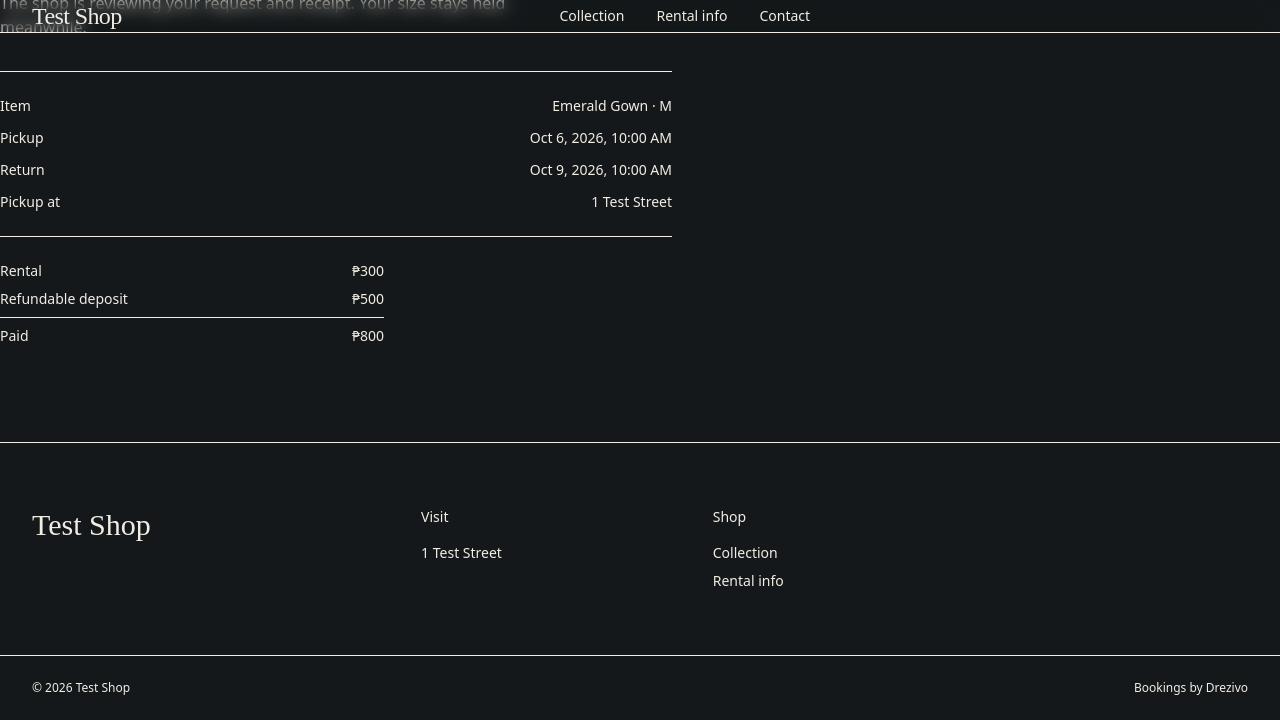
Test: reservation proof page › guards footer navigation before the animated storefront transition can navigate
(page scrolled)
Click the 2nd link "Collection" at (745, 552), box [713,543,778,562]
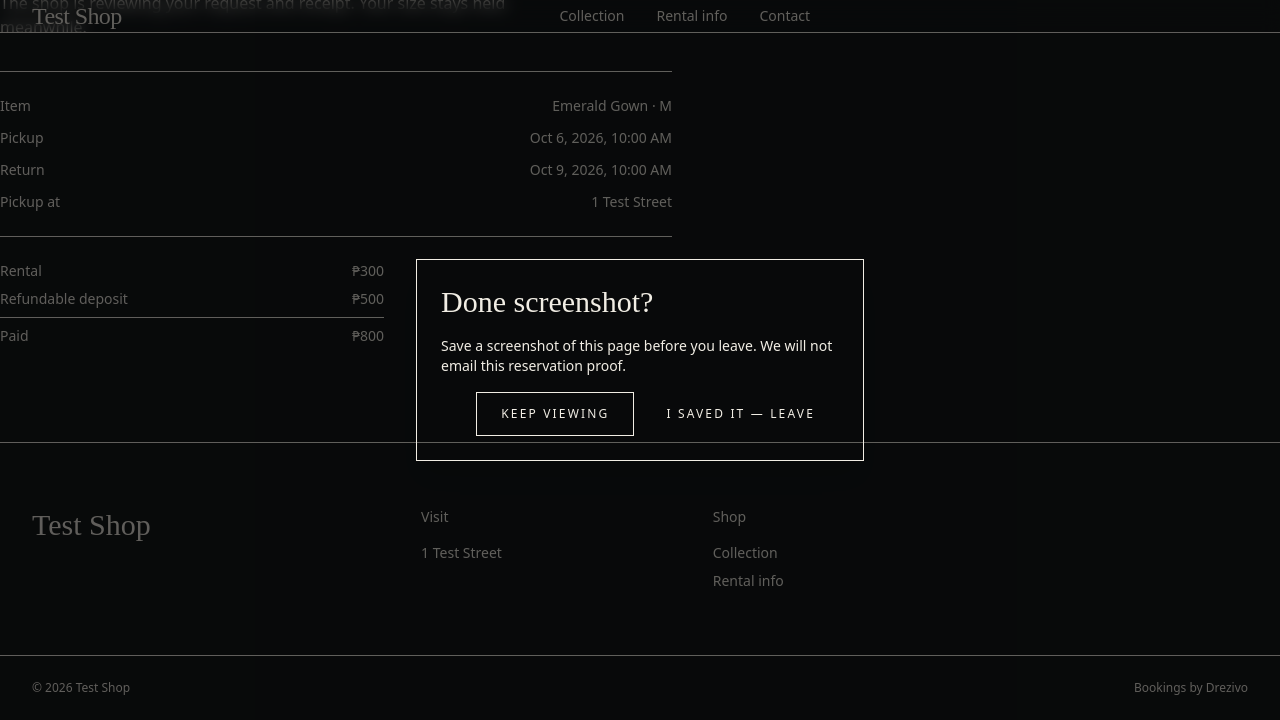
Now the dialog "Done screenshot?" is shown, box [416,259,864,461]
